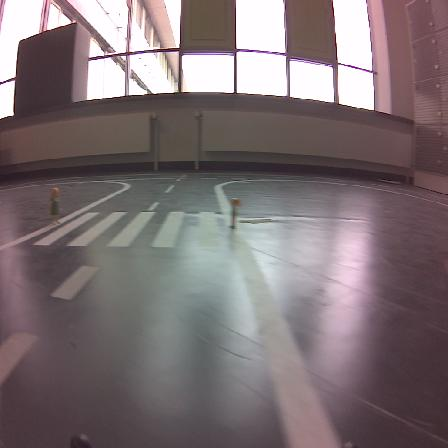CHILD: (230, 198, 240, 228)
PERSON: (49, 187, 59, 224)
